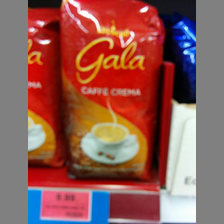coffee: (60, 1, 162, 181)
